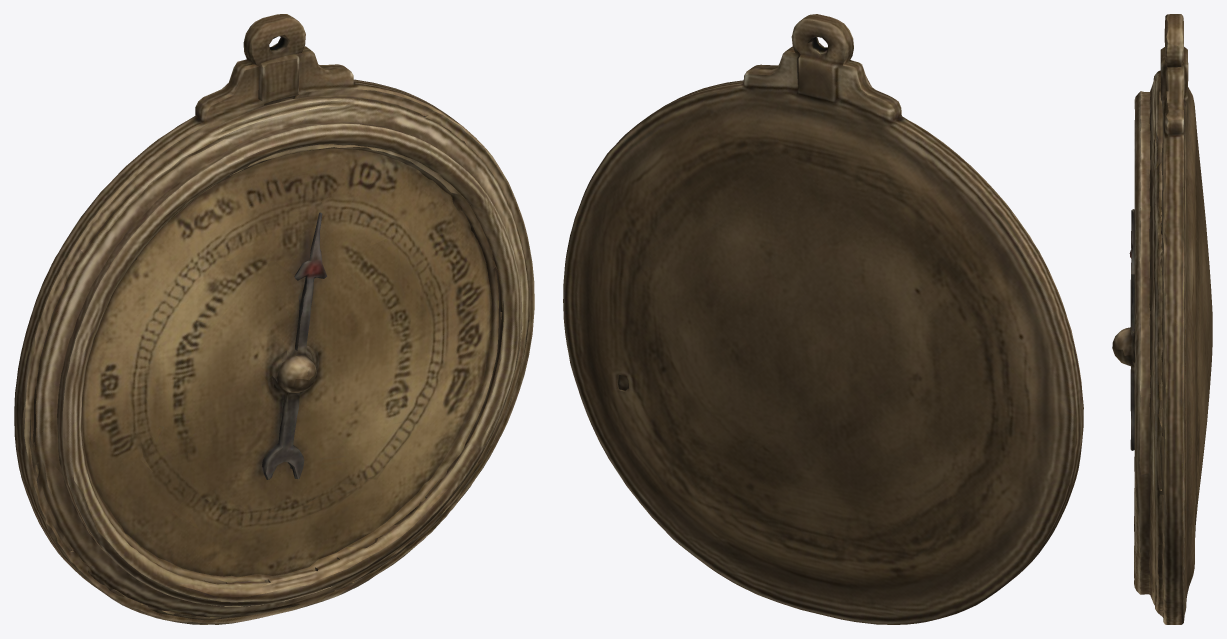
3 views of the same model, side by side, from view 1: azimuth 30°, elevation 25°; view 2: azimuth 150°, elevation 25°; view 3: azimuth 270°, elevation 25° (orthographic). The views are drawn at different scales.
Parts seen in each view (by area): view 1: world; view 2: world; view 3: world.
Part boxes in pixels (bbox=[...]): world: bbox=[14, 14, 534, 624]; world: bbox=[563, 14, 1083, 624]; world: bbox=[1112, 14, 1212, 624].
Size of the model in its own units: 0.15 by 0.1657 by 0.0262.
Materials: 1 (1 with a texture image).
